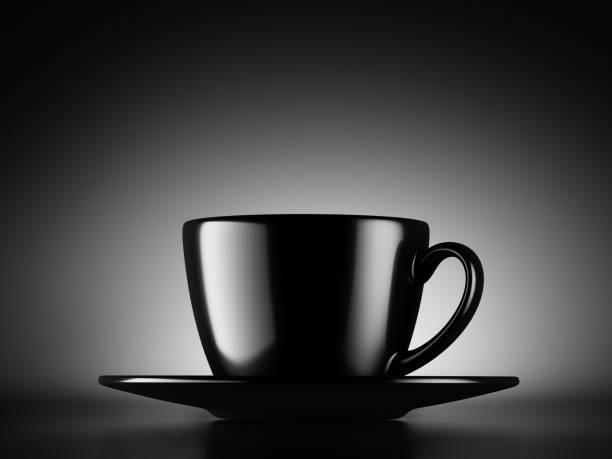cup-handle: (180, 211, 486, 381)
